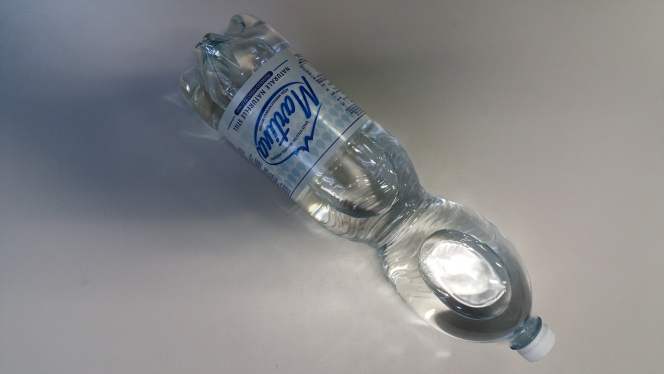bottle: (173, 15, 565, 365)
